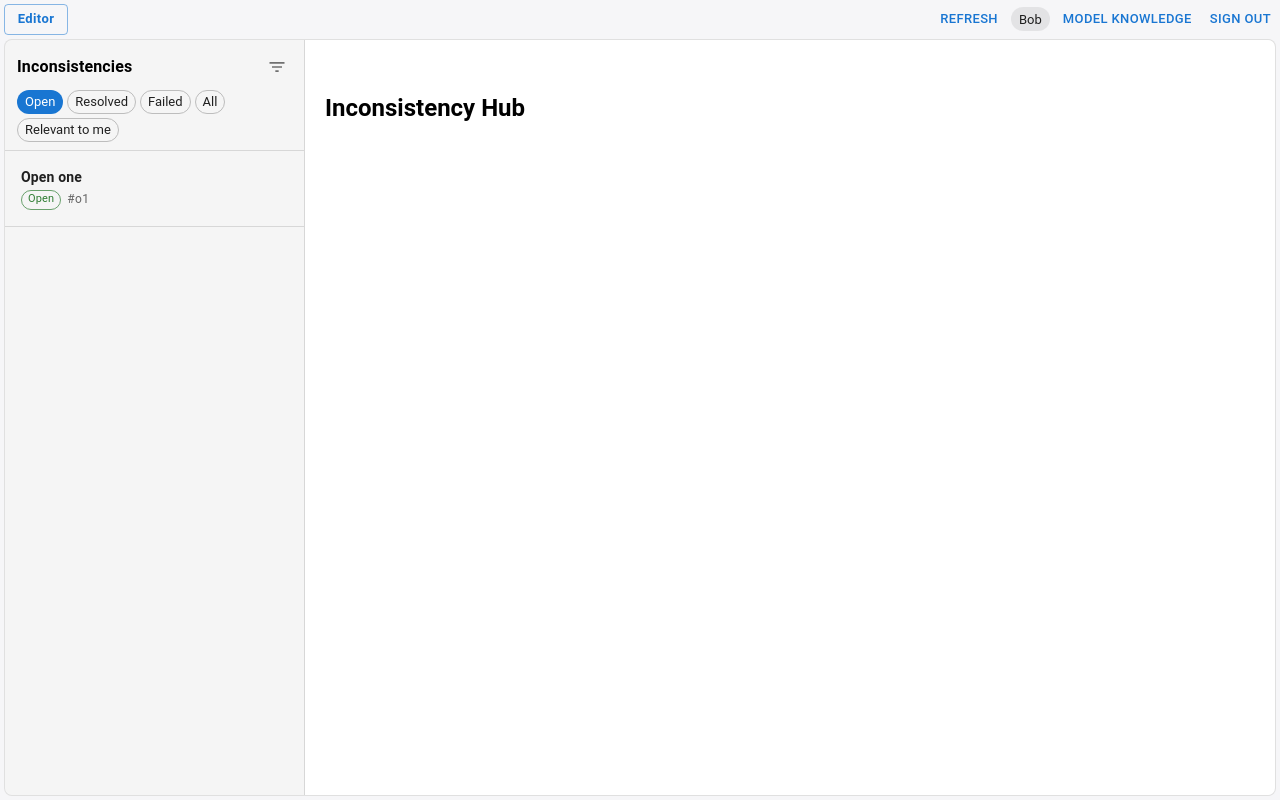
Scenario: InconsistencyHubPage › ignores a pending refresh once the filter changes
The width and height of the screenshot is (1280, 800).
expect the text "Open one" is shown: met, box [21,169,82,185]
Click the button "Refresh". click: (969, 19)
box: [935,4,1003,35]
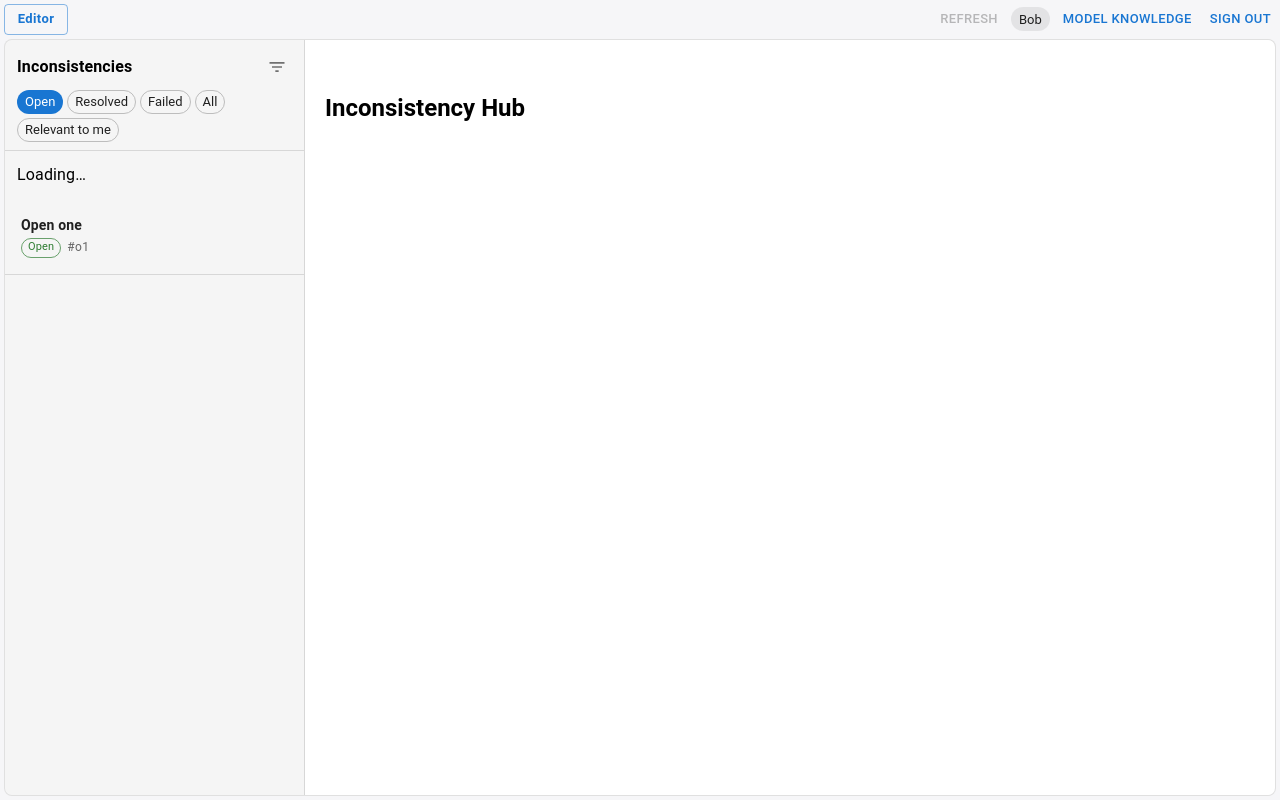
Click the button "Resolved". click: (102, 102)
box: [67,90,136,114]
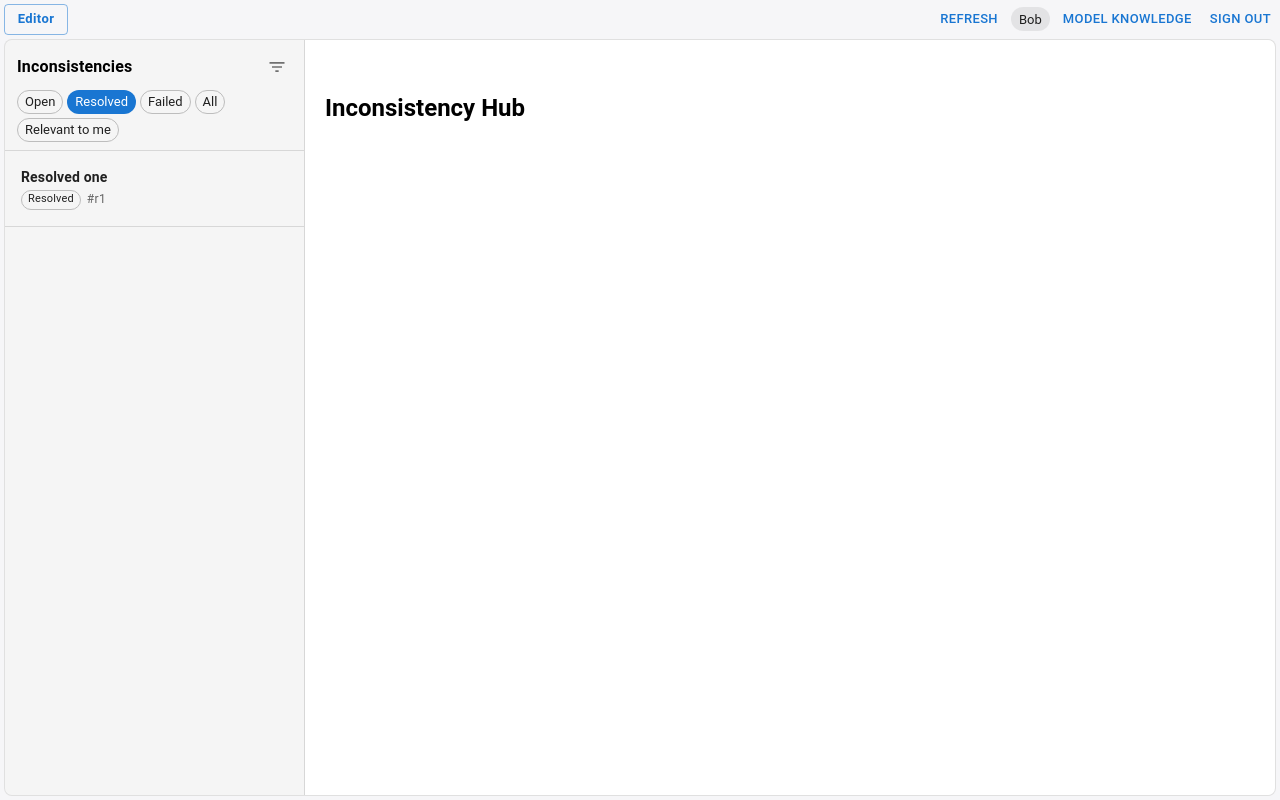
expect the text "Resolved one" is shown: met, box [21,169,107,185]
expect the text "Loading…" is gone: met
